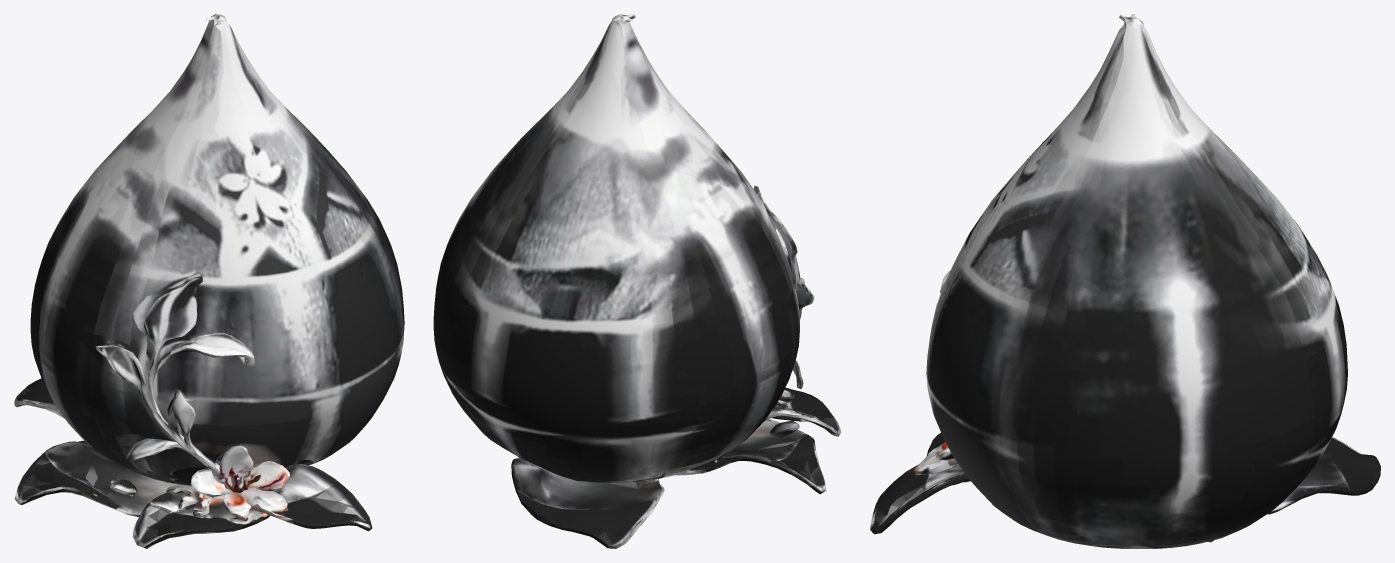
File: drop-silver.glb
The picture shows the model from 3 angles, left to right: view 1: azimuth 30°, elevation 25°; view 2: azimuth 150°, elevation 25°; view 3: azimuth 270°, elevation 25°; orthographic projection. The views are drawn at different scales.
Parts seen in each view (by area): view 1: geometry_0; view 2: geometry_0; view 3: geometry_0.
Boxes of the visible parts, x1,y1,x2,y2 form: geometry_0: [14, 14, 404, 548]; geometry_0: [433, 14, 841, 548]; geometry_0: [870, 14, 1380, 548].
Bounding box in the file's own units: 0.1298 × 0.15 × 0.1391.
1 material, 1 textured.
